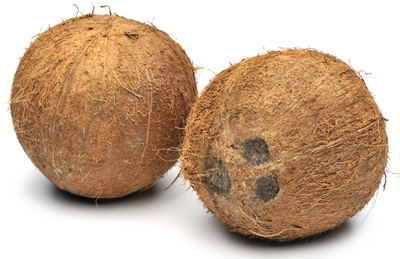coconut: (191, 46, 387, 242), (10, 12, 191, 195)
